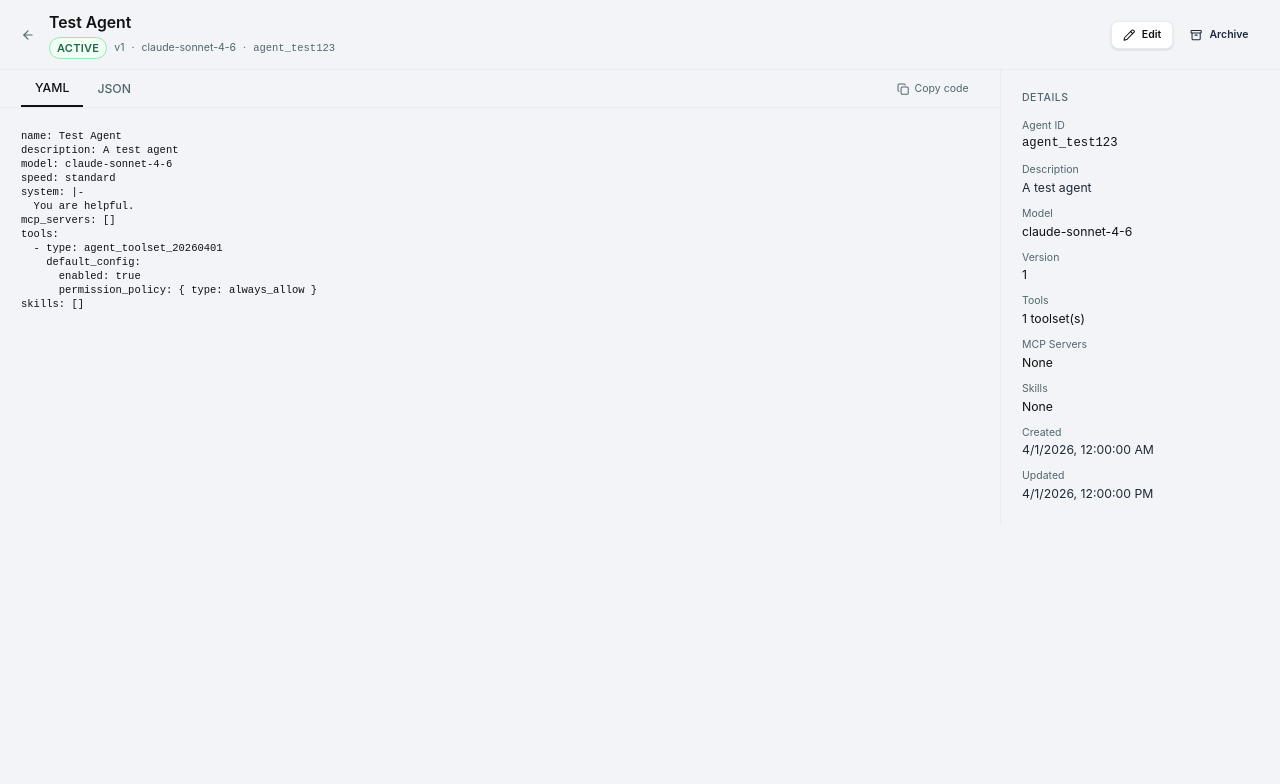
Test: AgentDetailPage › reverts unsaved changes on Cancel
Expected: the heading "Test Agent" is shown, top-left (49, 12), bottom-right (131, 32)
Click the button "Edit" at (1142, 35), box top-left (1111, 21), bottom-right (1173, 49)
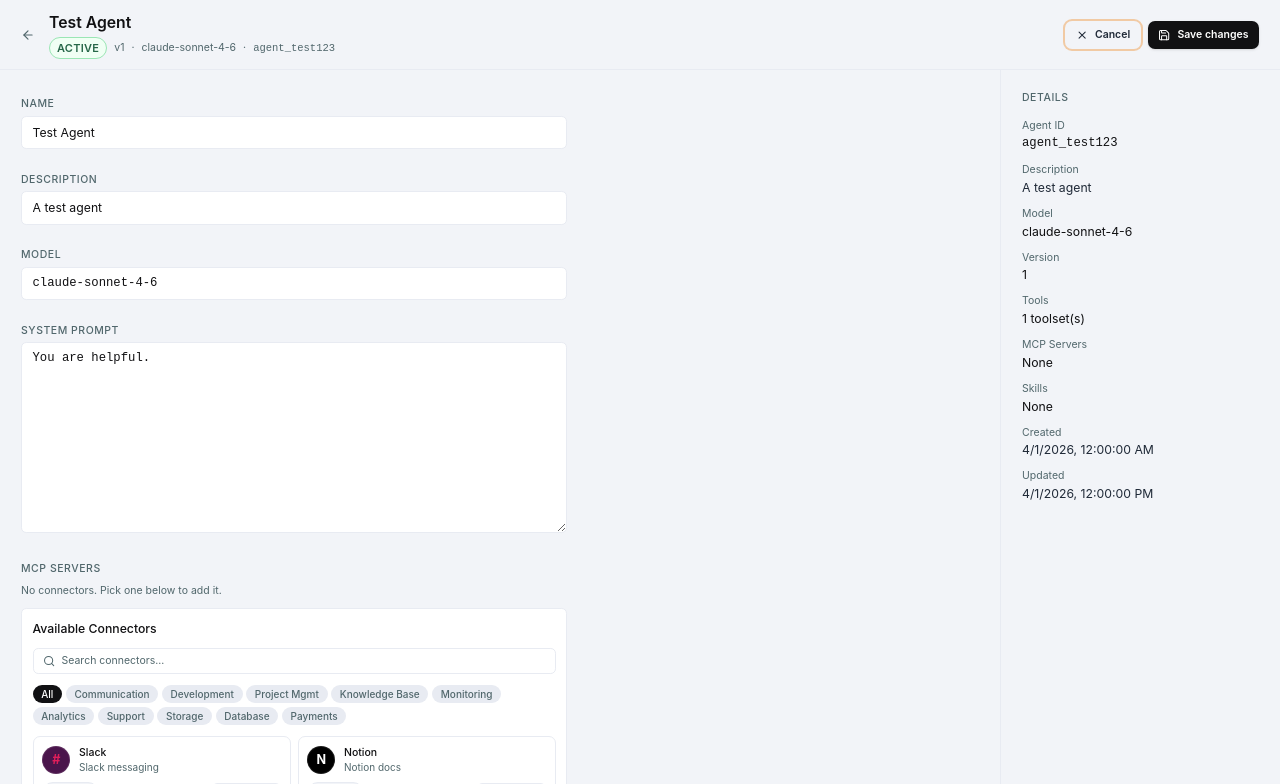
Replace the text in the field showing "Test Agent" with "Discarded" at (294, 133), box top-left (21, 116), bottom-right (567, 149)
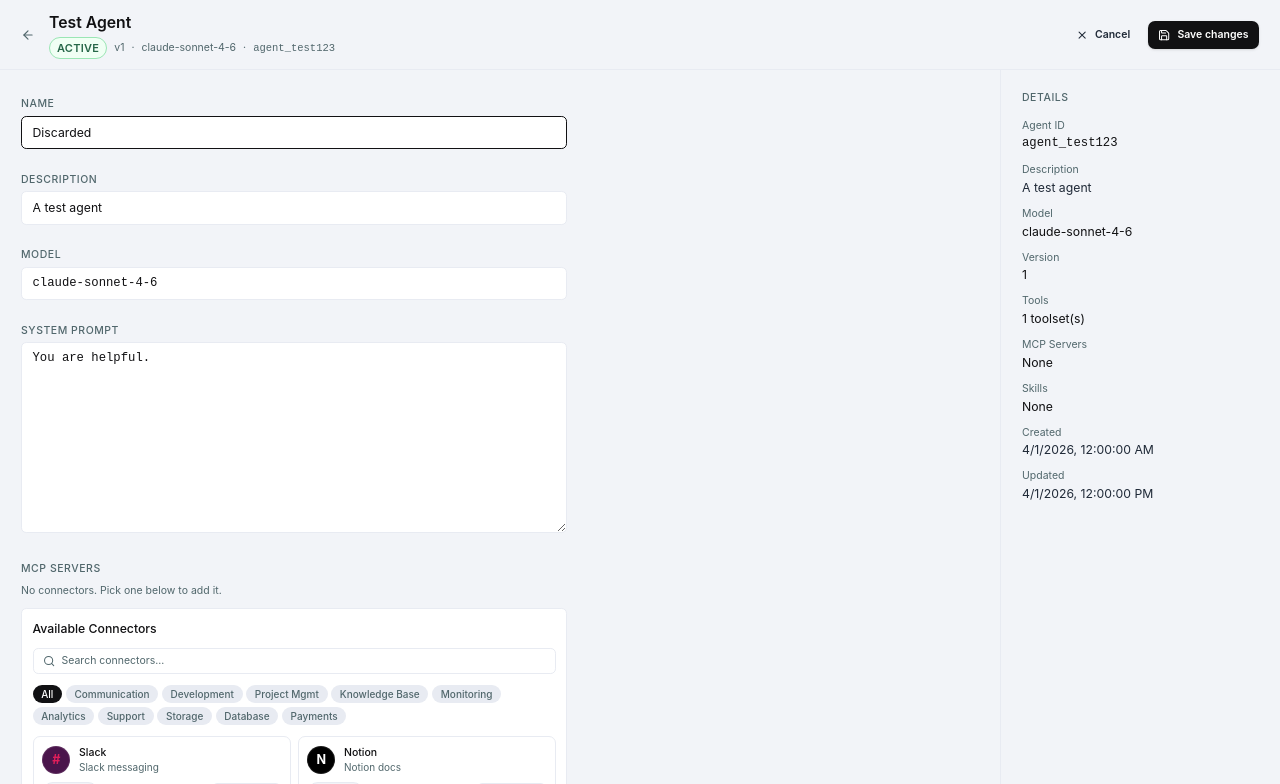
Click the button "Cancel" at (1103, 35), box top-left (1065, 21), bottom-right (1141, 49)
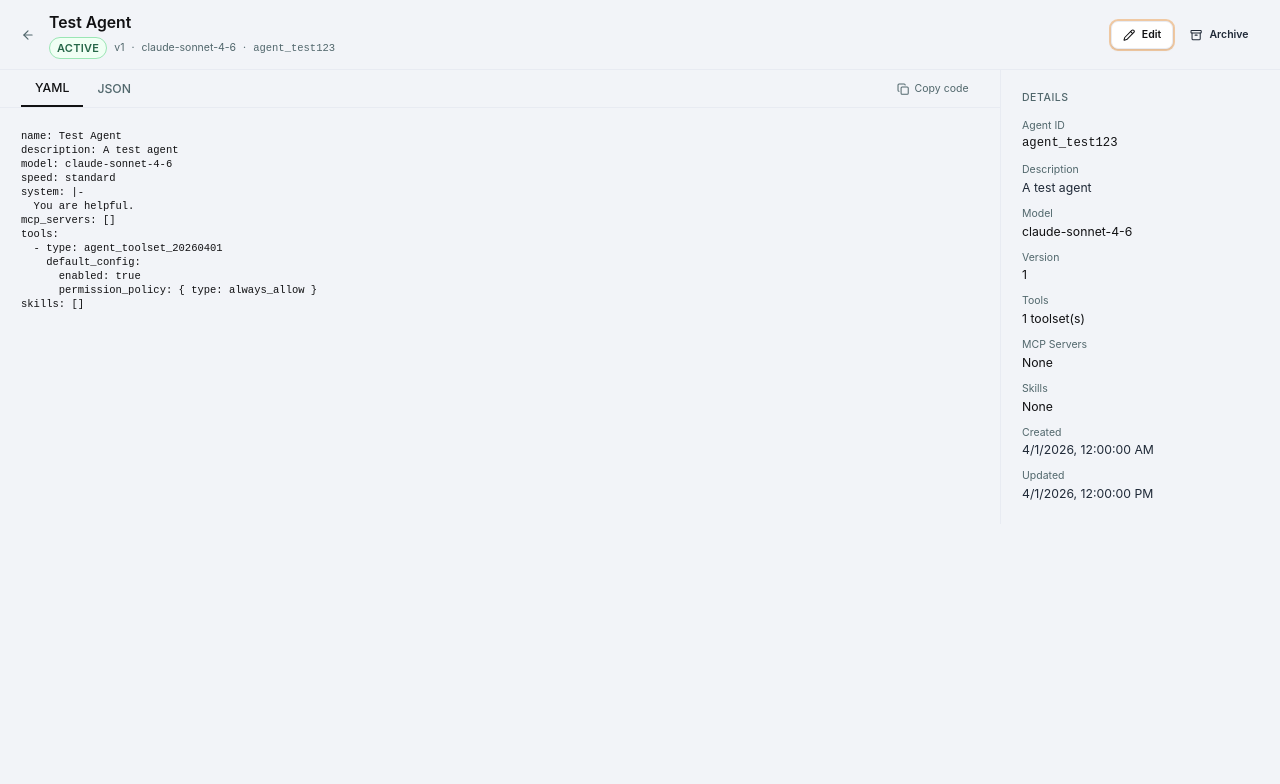
Result: the button "Edit" is shown at top-left (1111, 21), bottom-right (1173, 49)
